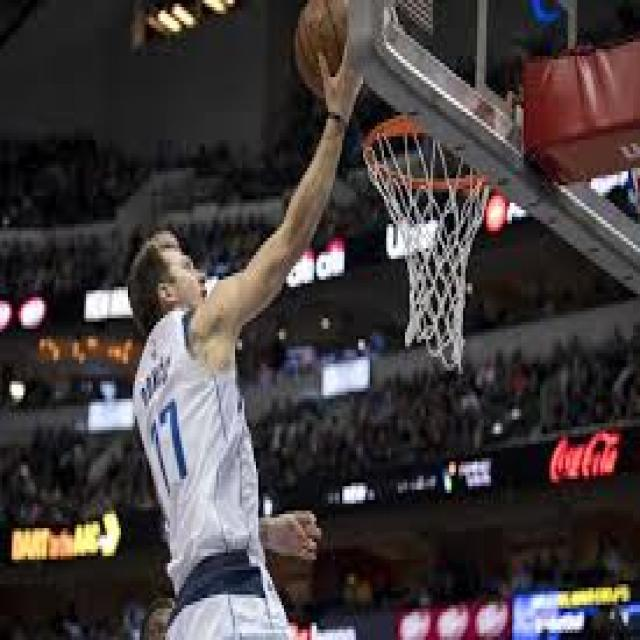rim: (298, 6, 358, 94)
